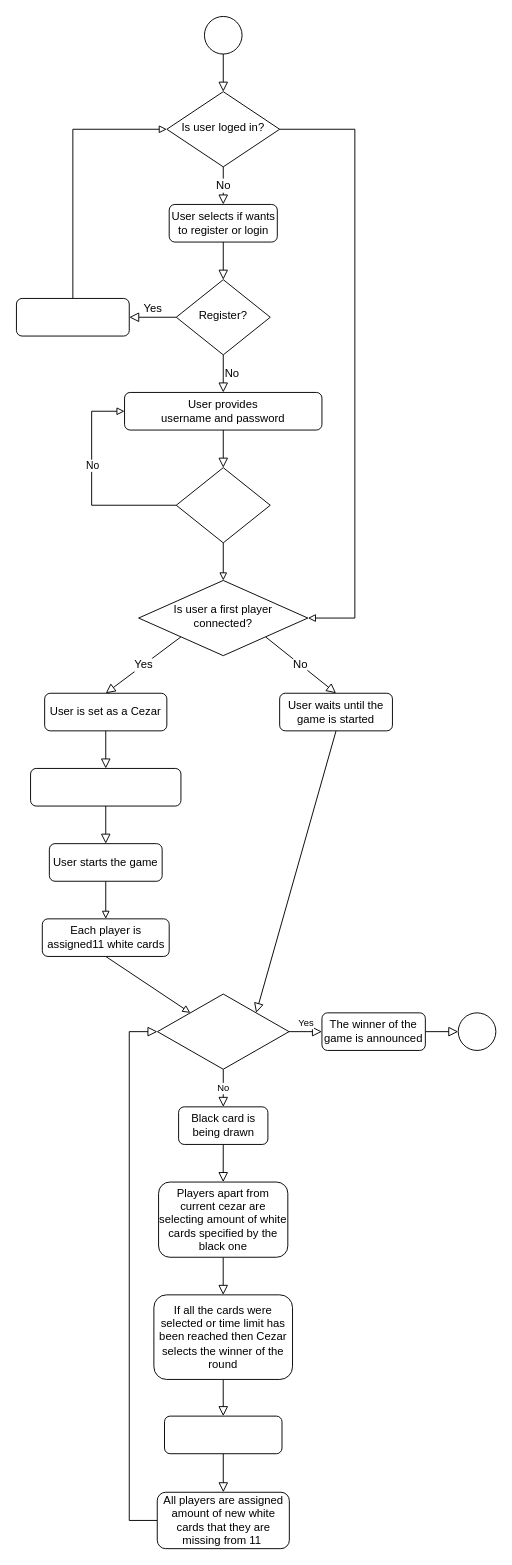
Image size: 512x1565. Some labels were removed from this diagram. The shapes that lost their labels are listed below. From the top down, each one's centre as x and y in pixels, then its label:
At point 223,35: "START".
At point 72,317: "User provides login and password".
At point 222,505: "Does exist?".
At point 105,787: "User sets limit of won rounds and time limit for a round".
At point 223,1031: "Is the round limit reached by any user?".
At point 476,1031: "STOP".
At point 223,1434: "Selected player 's win count is raised by 1".
